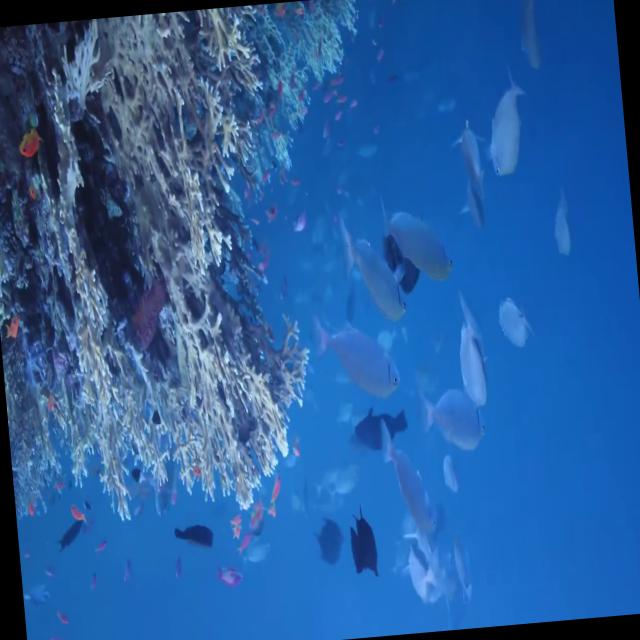fish: (314, 310, 406, 402), (480, 70, 527, 178), (454, 294, 491, 406)
